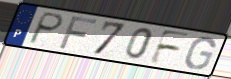0: (124, 27, 155, 62)
7: (93, 19, 129, 57)
F: (147, 28, 193, 66), (57, 15, 100, 50)
G: (183, 36, 217, 71)
P: (26, 11, 66, 46)
